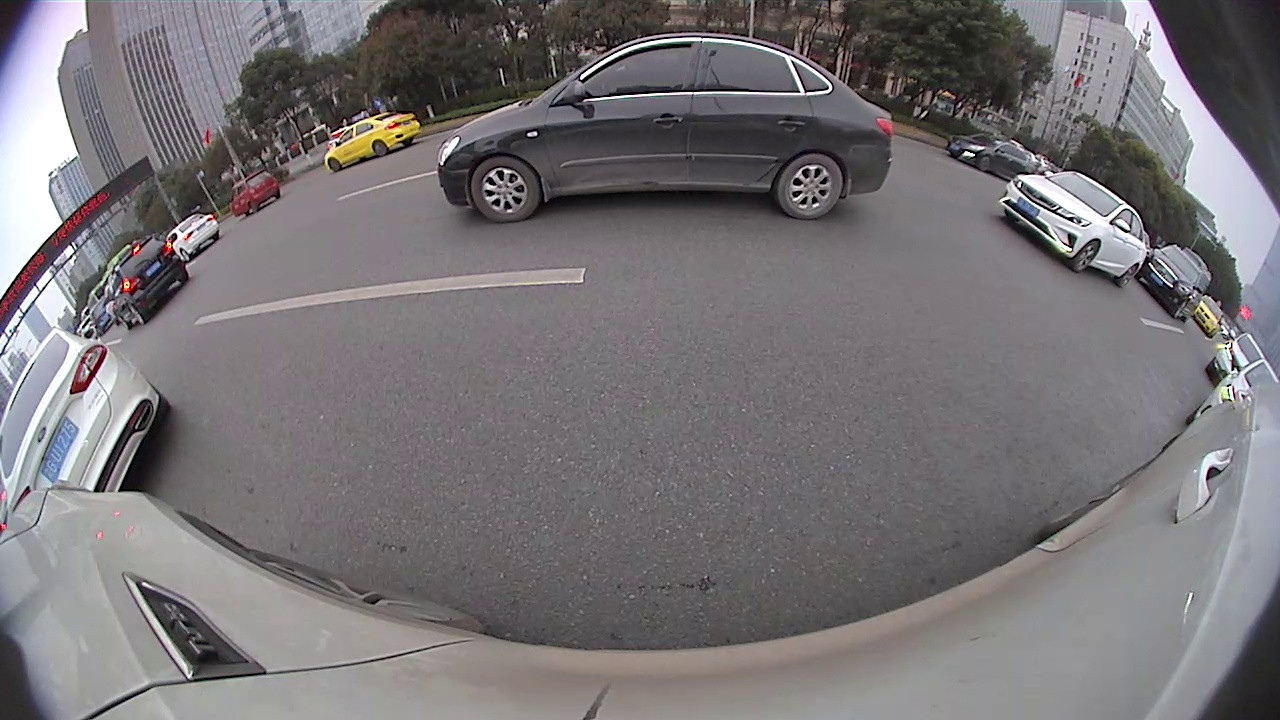car: (433, 25, 897, 226), (4, 330, 176, 509), (1001, 168, 1153, 292), (107, 233, 192, 328), (326, 107, 426, 179), (1139, 242, 1213, 322), (944, 131, 1039, 186)
front: (469, 155, 541, 222), (1069, 239, 1101, 273), (978, 153, 992, 173), (328, 159, 343, 172)
rear: (778, 151, 845, 221), (1117, 263, 1138, 289), (127, 300, 145, 325), (373, 142, 388, 157)
